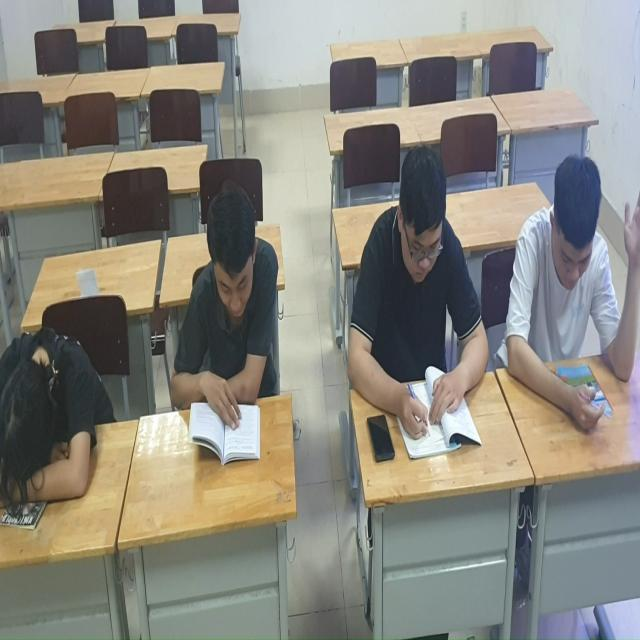raise_hand: (509, 109, 640, 441)
read: (345, 141, 500, 475), (170, 182, 283, 470)
sleep: (1, 314, 115, 513)
